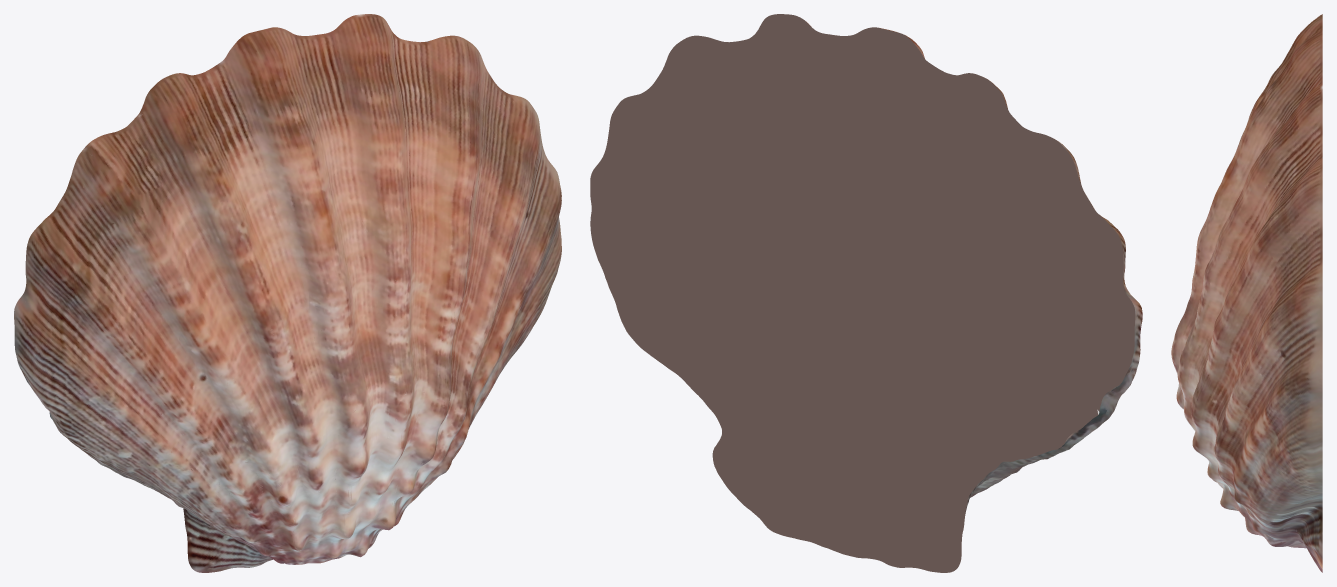
Rendered from clam1.glb.
3 views of the same model, side by side, from view 1: azimuth 30°, elevation 25°; view 2: azimuth 150°, elevation 25°; view 3: azimuth 270°, elevation 25° (orthographic). The views are drawn at different scales.
Parts seen in each view (by area): view 1: Object_2; view 2: Object_2; view 3: Object_2.
Part boxes in pixels (x1=…): Object_2: x1=14, y1=14, x2=561, y2=572; Object_2: x1=590, y1=14, x2=1142, y2=572; Object_2: x1=1171, y1=14, x2=1322, y2=572.
Bounding box in the file's own units: 151 × 141 × 39.51.
Materials: 1 (1 with a texture image).
